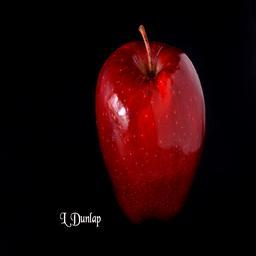apple: (94, 36, 206, 224)
